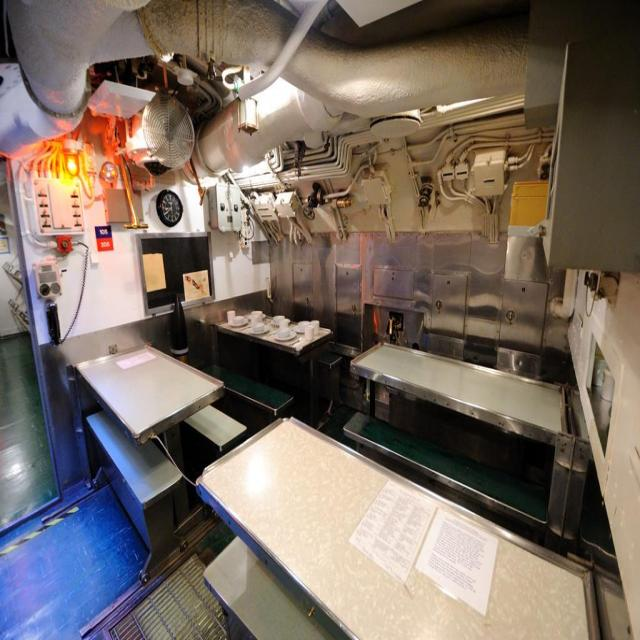Table: (172, 394, 547, 638), (353, 334, 575, 441), (76, 340, 220, 449)
